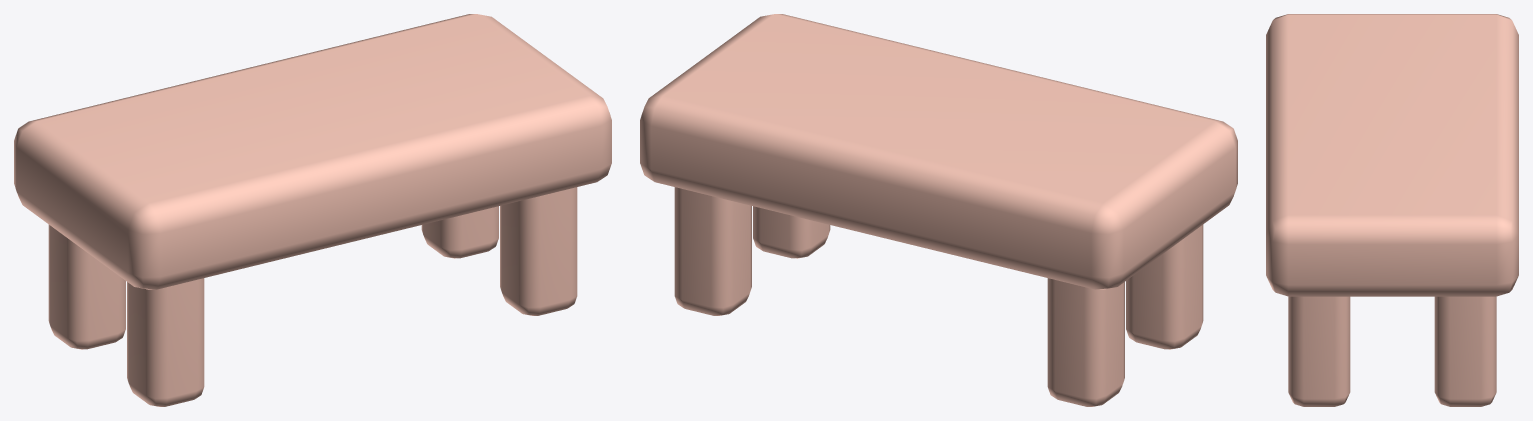
The model's file is Store_3_Table_2.glb.
3 renders of one model, left to right at view 1: azimuth 30°, elevation 25°; view 2: azimuth 150°, elevation 25°; view 3: azimuth 270°, elevation 25°, orthographic. The views are drawn at different scales.
Visible parts, largest first — view 1: Store_3_Table_2; view 2: Store_3_Table_2; view 3: Store_3_Table_2.
Boxes of the visible parts, x1,y1,x2,y2 form: Store_3_Table_2: (14, 14, 611, 406); Store_3_Table_2: (640, 14, 1237, 406); Store_3_Table_2: (1266, 14, 1518, 406).
Size of the model in its own units: 1.52 by 0.6455 by 0.7389.
1 material, 1 textured.
